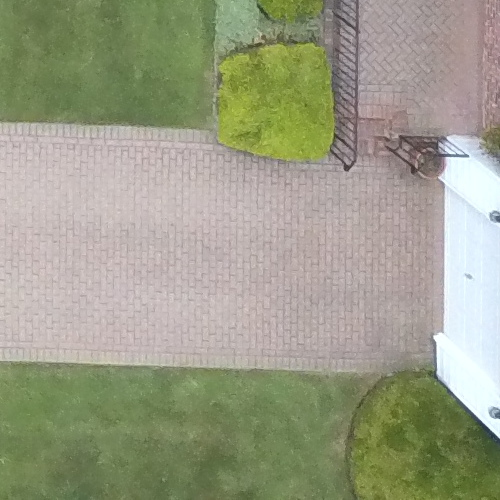flower pot: (403, 139, 448, 189)
